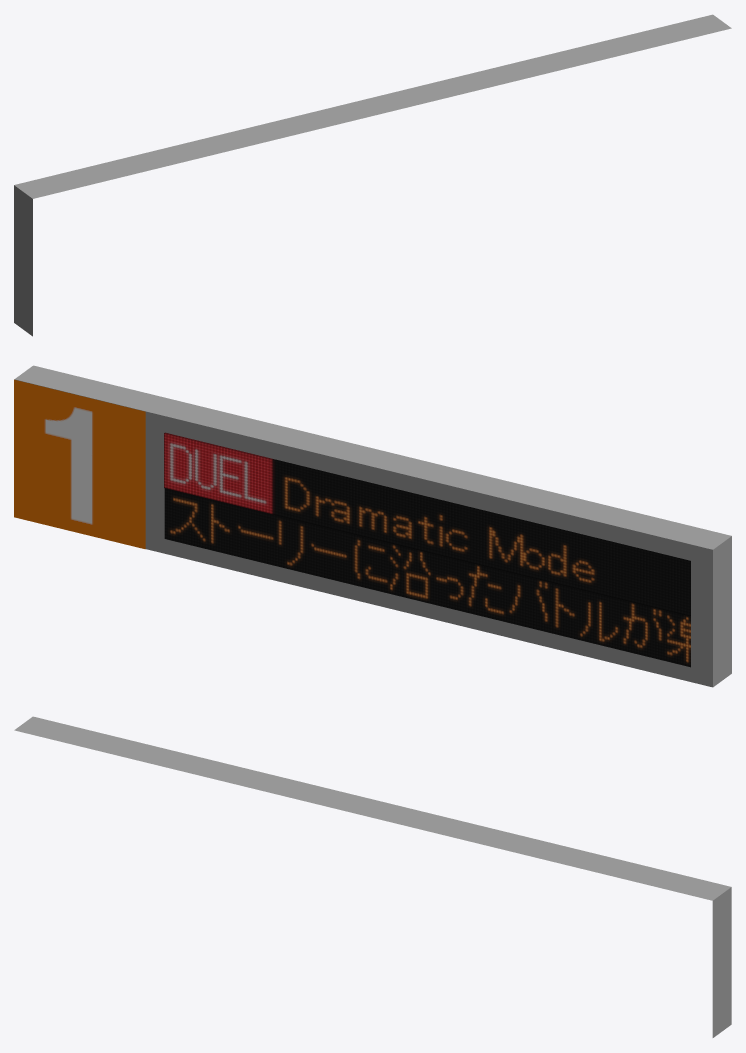
The model's file is MENU01.glb.
3 renders of one model, top to bottom at view 1: azimuth 30°, elevation 25°; view 2: azimuth 150°, elevation 25°; view 3: azimuth 330°, elevation 25°, orthographic.
Visible parts, largest first — view 1: BOX1; view 2: BOX1, Btl_E; view 3: BOX1.
Boxes of the visible parts, x1,y1,x2,y2 form: BOX1: [14, 14, 731, 336]; BOX1: [14, 365, 731, 687]; Btl_E: [164, 433, 690, 616]; BOX1: [14, 716, 731, 1037].
Size of the model in its own units: 26.55 by 5 by 1.35.
5 materials, 5 textured.
